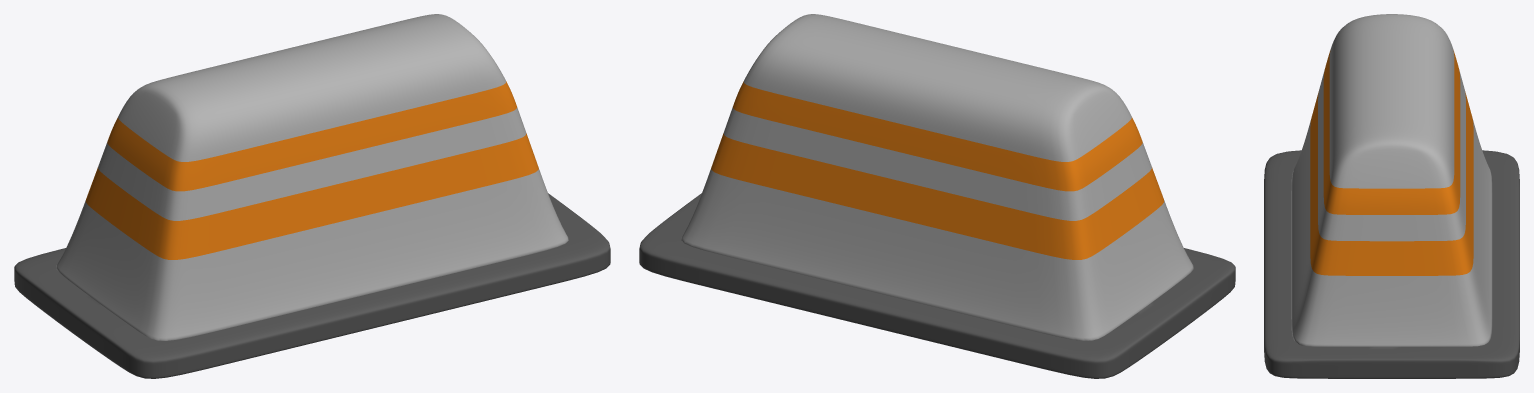
Rendered from Border.fbx.
The picture shows the model from 3 angles, left to right: view 1: azimuth 30°, elevation 25°; view 2: azimuth 150°, elevation 25°; view 3: azimuth 270°, elevation 25°; orthographic projection. The views are drawn at different scales.
Visible parts, largest first — view 1: Cube; view 2: Cube; view 3: Cube.
Boxes of the visible parts, x1,y1,x2,y2 form: Cube: (14, 14, 610, 378); Cube: (639, 14, 1235, 378); Cube: (1264, 14, 1519, 378).
Bounding box in the file's own units: 619 × 271 × 316.
